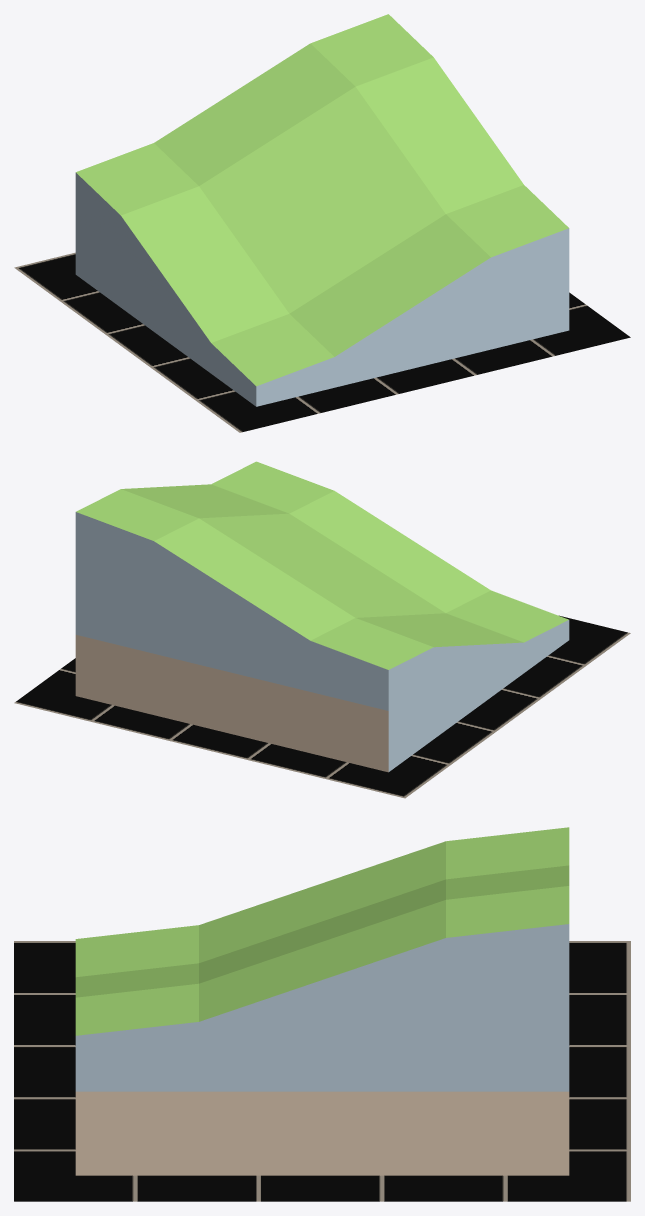
Rendered from Grass_Hill_Gentle_Overlapping_Gentle_4x4.glb.
3 views of the same model, one above another, from view 1: azimuth 30°, elevation 25°; view 2: azimuth 150°, elevation 25°; view 3: azimuth 270°, elevation 25° (orthographic). The views are drawn at different scales.
Parts seen in each view (by area): view 1: Grass_Hill_Gentle_Overlapping_Gentle_4x4, Floor; view 2: Grass_Hill_Gentle_Overlapping_Gentle_4x4, Floor; view 3: Grass_Hill_Gentle_Overlapping_Gentle_4x4, Floor.
Part boxes in pixels (bbox=[...]): Grass_Hill_Gentle_Overlapping_Gentle_4x4: bbox=[75, 14, 569, 406]; Floor: bbox=[14, 252, 630, 432]; Grass_Hill_Gentle_Overlapping_Gentle_4x4: bbox=[75, 461, 569, 772]; Floor: bbox=[14, 615, 630, 798]; Grass_Hill_Gentle_Overlapping_Gentle_4x4: bbox=[75, 827, 569, 1175]; Floor: bbox=[14, 941, 630, 1201].
Size of the model in its own units: 500 by 225 by 500.
5 materials, 1 textured.
